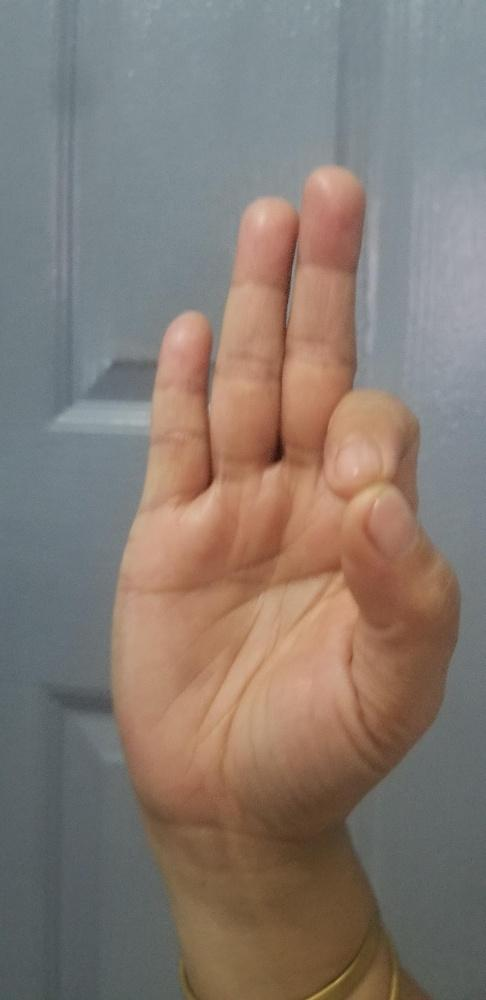f: (108, 161, 455, 829)
